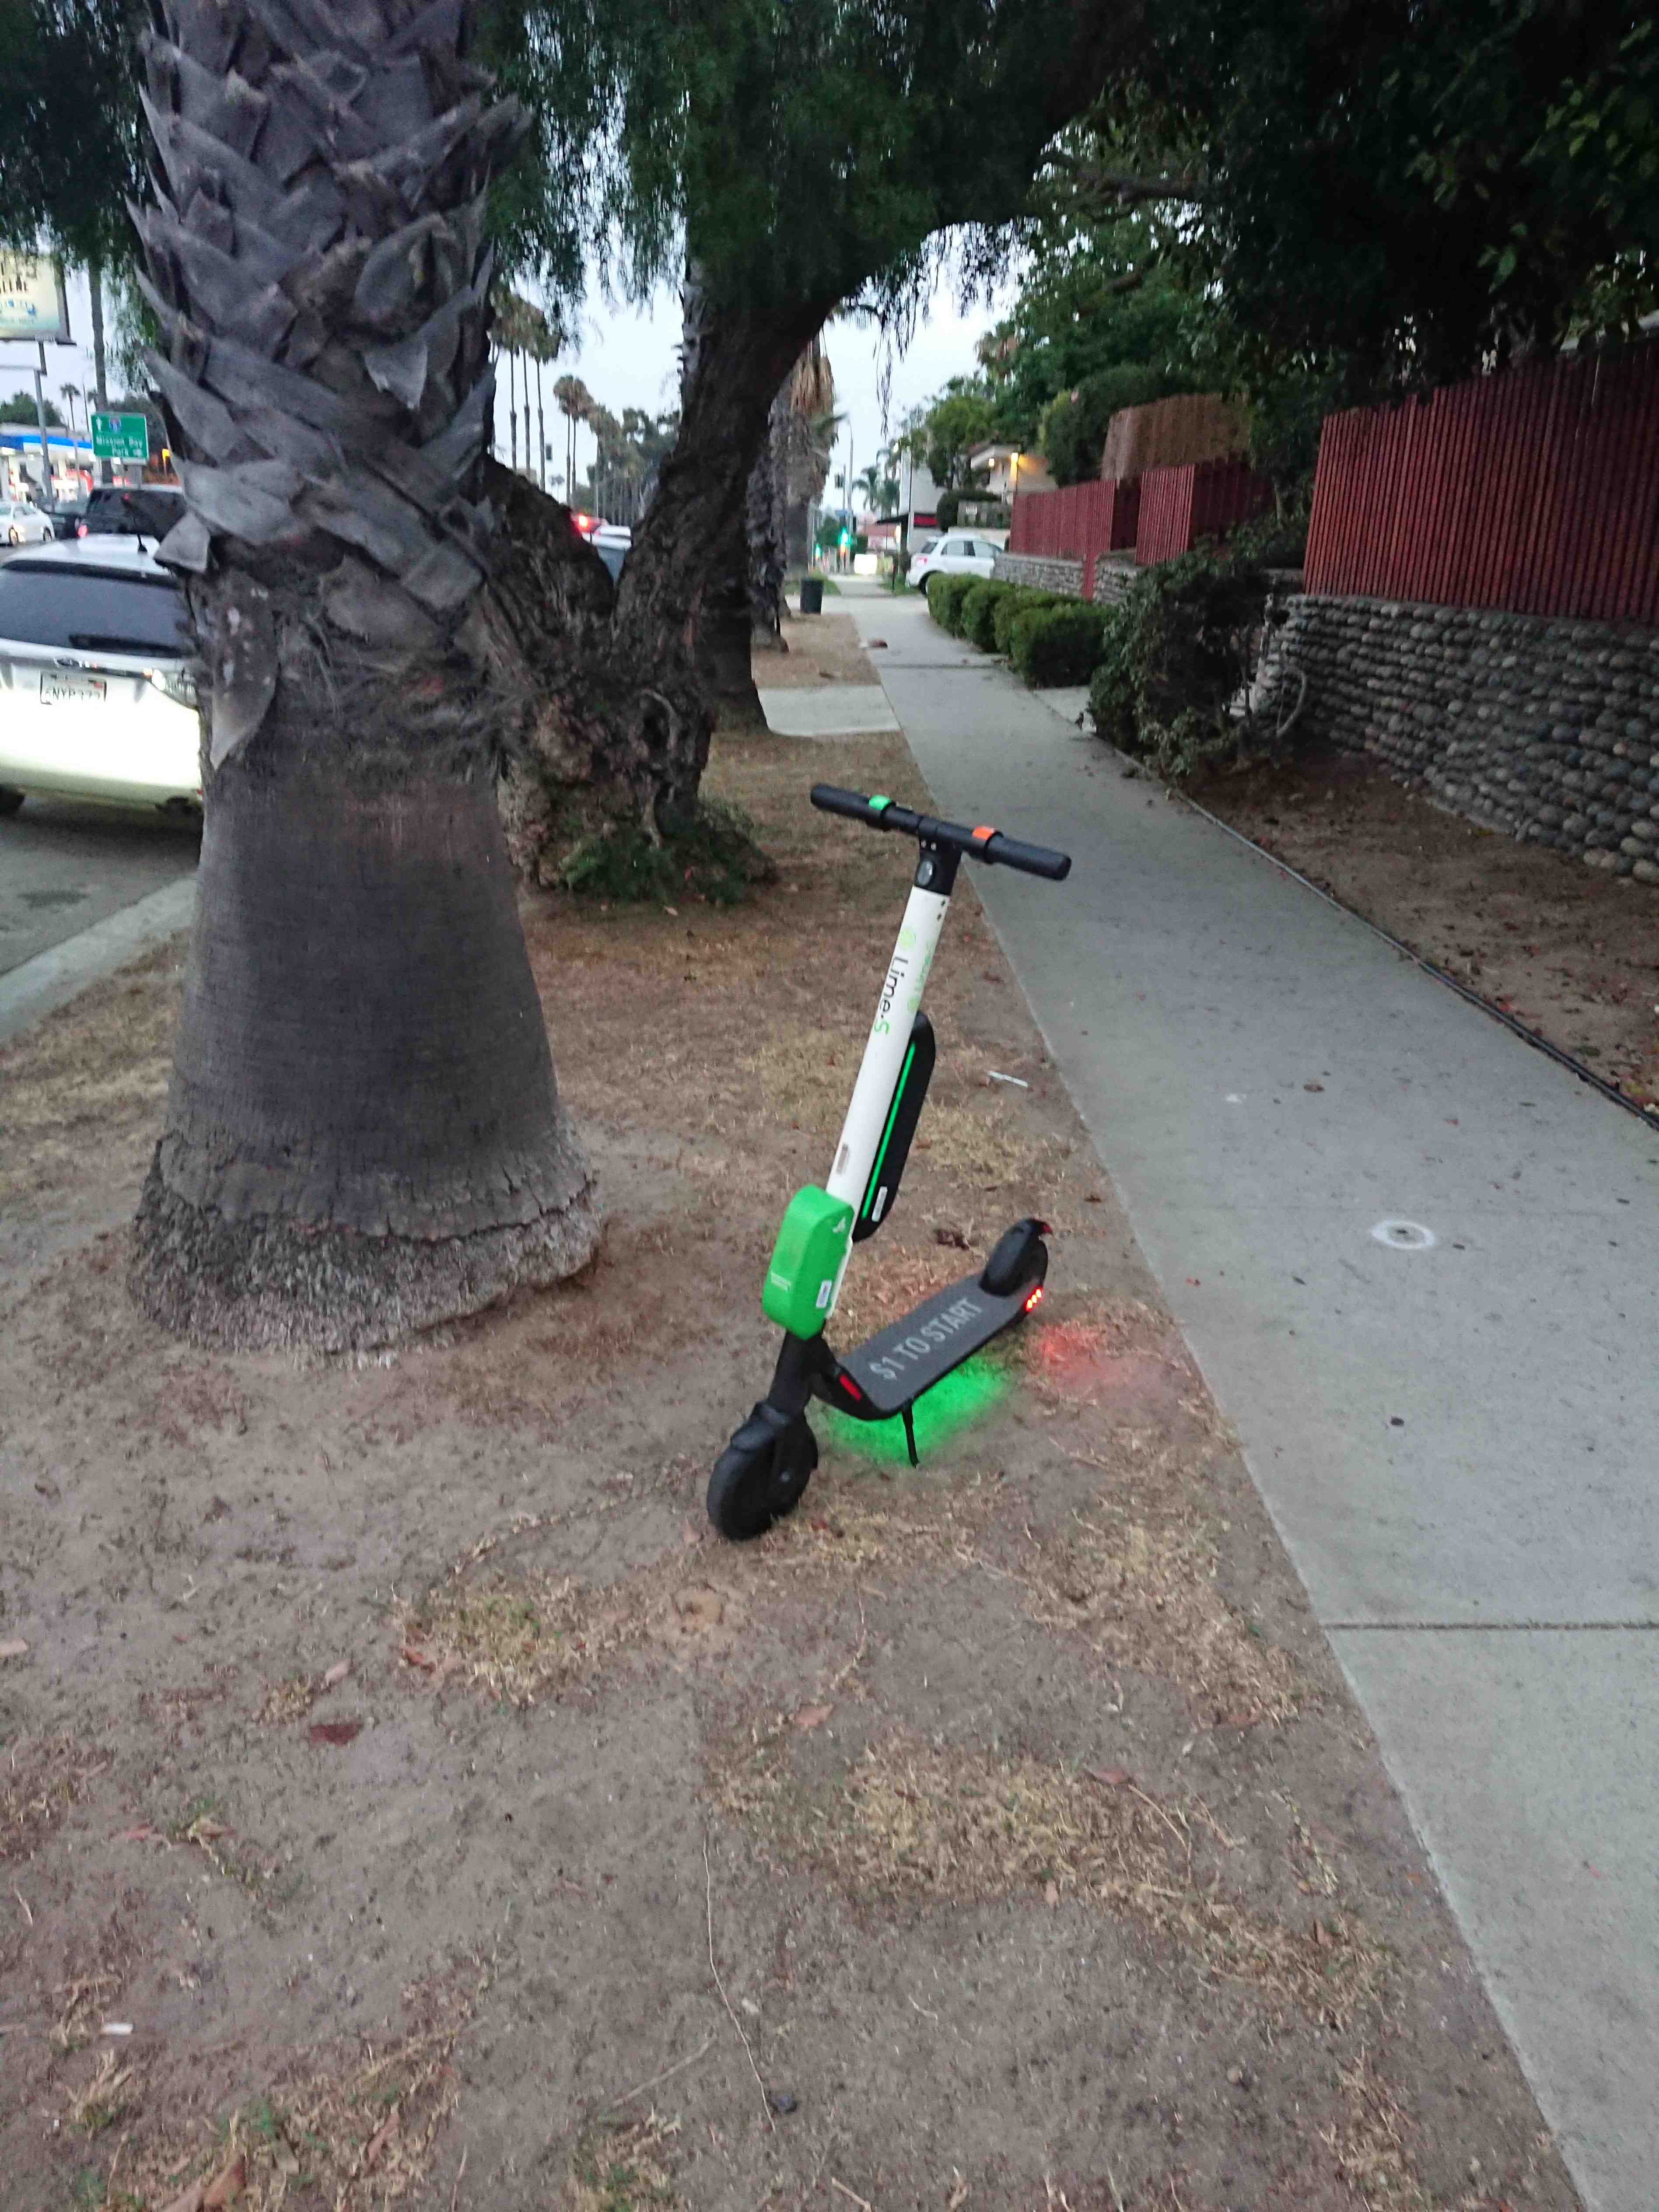scooter: (704, 799, 1096, 1512)
